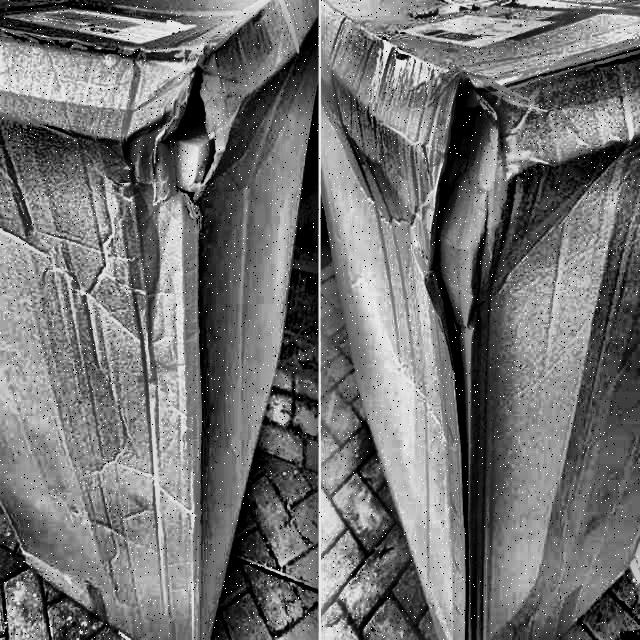box: (319, 0, 640, 639), (1, 0, 316, 638)
hole: (429, 77, 498, 486), (157, 44, 217, 215)
